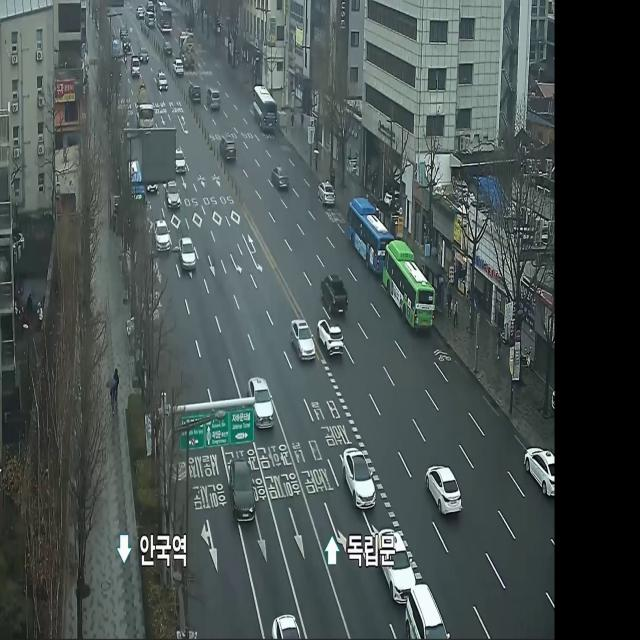car: (384, 235, 436, 335), (349, 191, 395, 285), (250, 84, 278, 136)
motorcycle: (341, 447, 379, 511), (426, 463, 464, 518), (228, 458, 257, 526), (247, 374, 276, 434), (524, 442, 555, 496), (317, 314, 345, 364), (321, 270, 349, 318), (292, 316, 316, 364), (218, 128, 238, 168), (178, 236, 196, 276), (317, 176, 338, 207), (271, 160, 290, 193)
